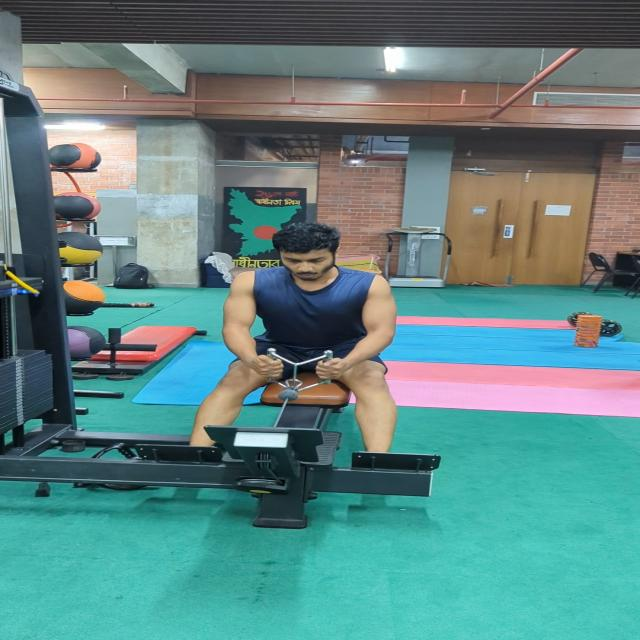Normal_RowingMachineExercise: (186, 220, 403, 459)
